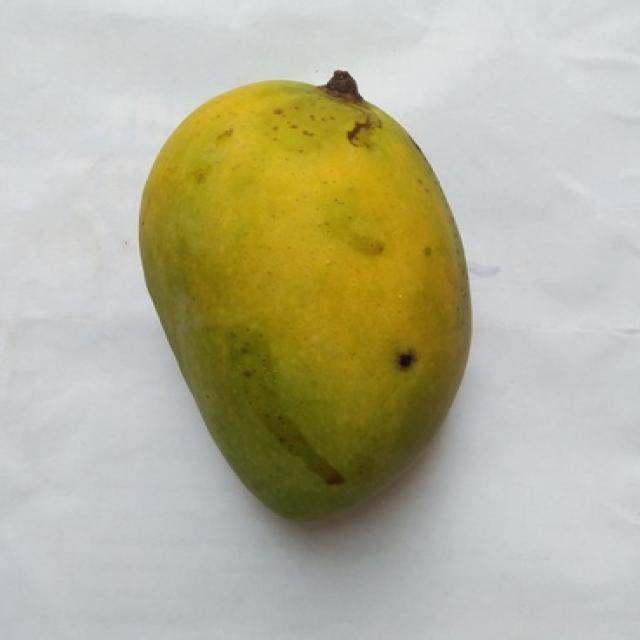Mango: (139, 71, 470, 517)
